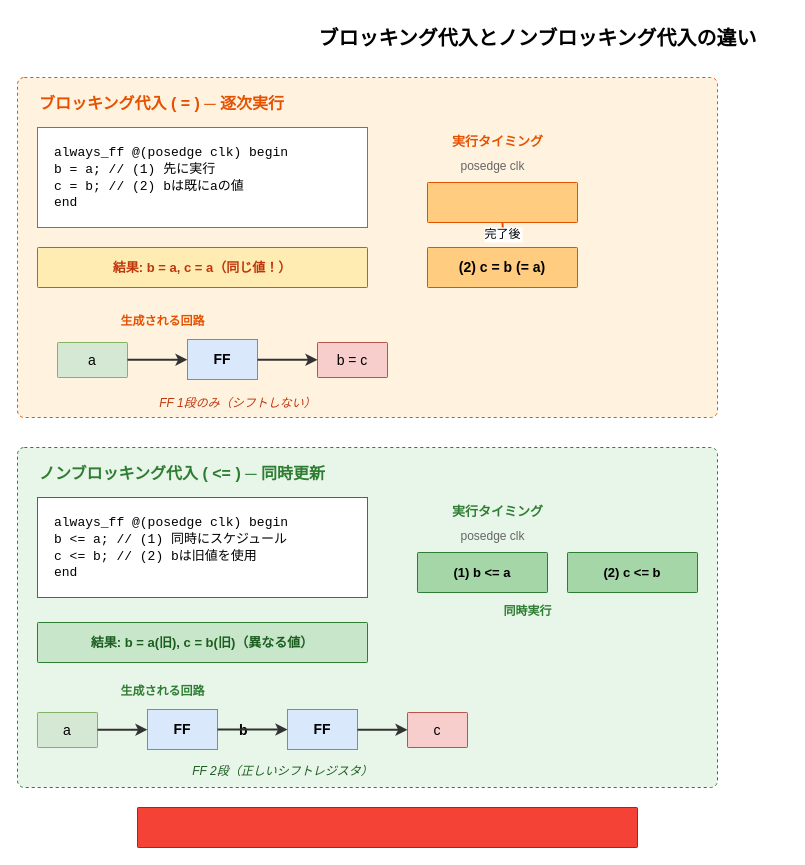
The diagram is 805 pixels wide and 865 high, and some of its shapes have lost their labels. Here are the shapes that lost their labels. From the top down, the box of each, then its label:
(426, 182, 578, 222): (1) b = a
(136, 806, 638, 848): まとめ: always_ff 内ではノンブロッキング代入(<=)を使用すること！
